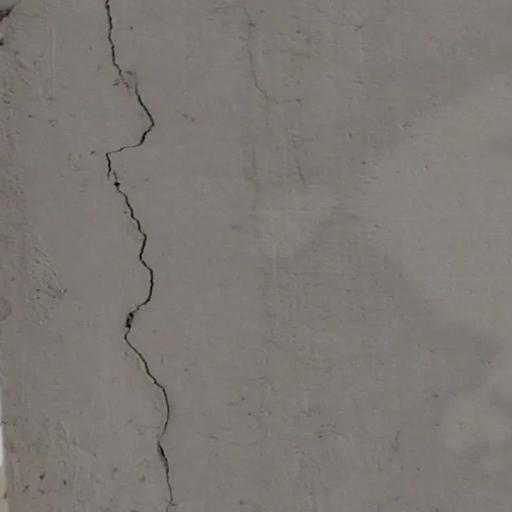major_crack: (76, 0, 194, 512)
